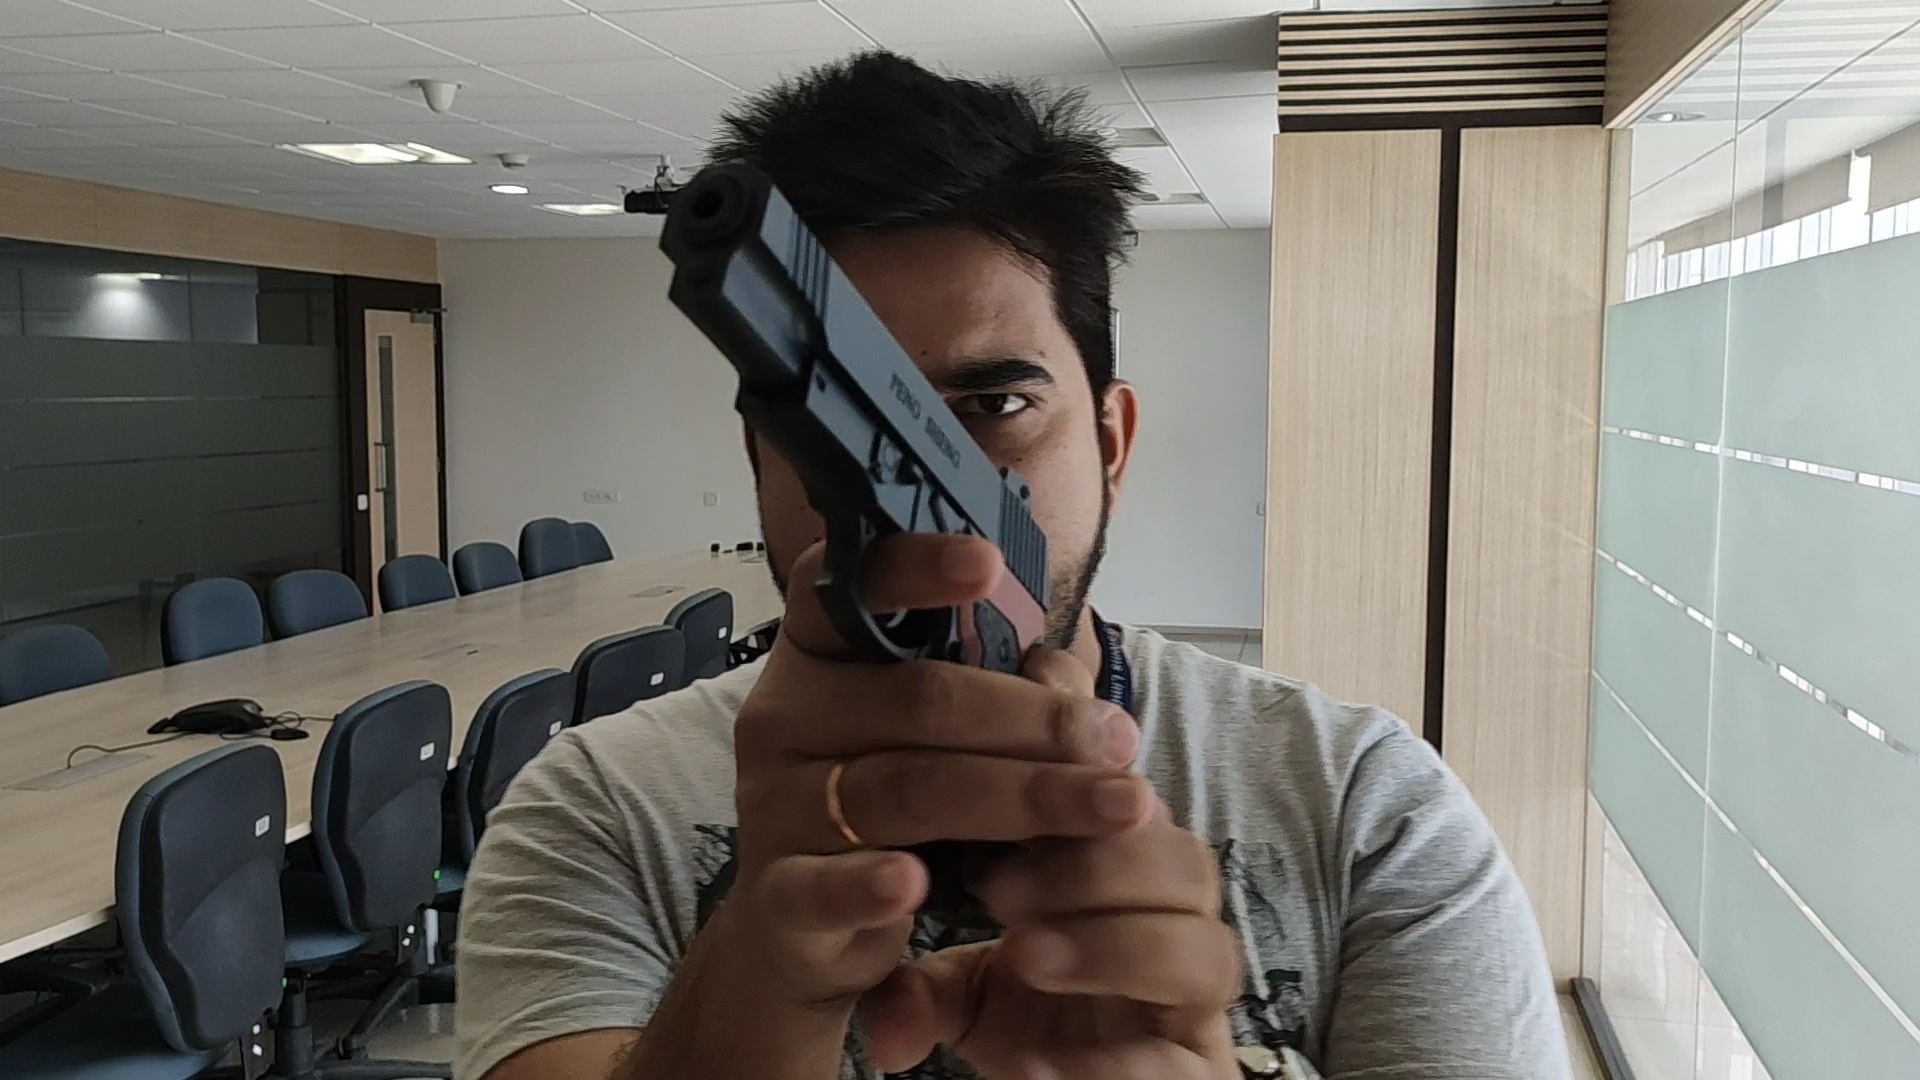gun: (658, 161, 1047, 535)
